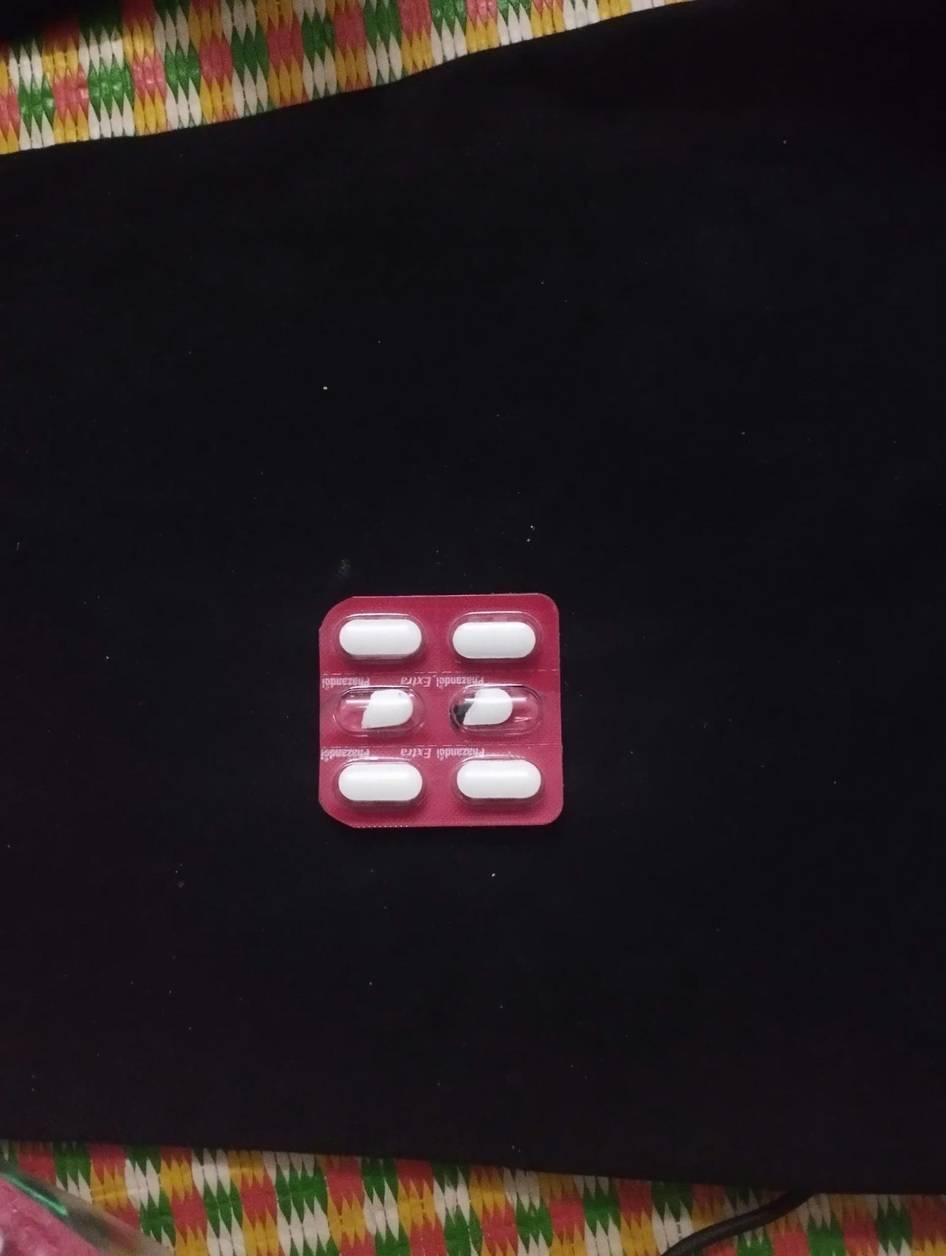Full: (331, 756, 426, 810), (447, 756, 546, 806), (331, 614, 430, 663), (452, 619, 540, 663)
Partial: (450, 682, 540, 733), (342, 684, 415, 733)
